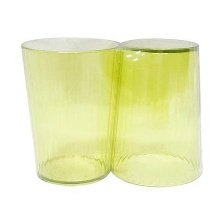glass: (13, 32, 120, 188), (108, 33, 210, 196)
